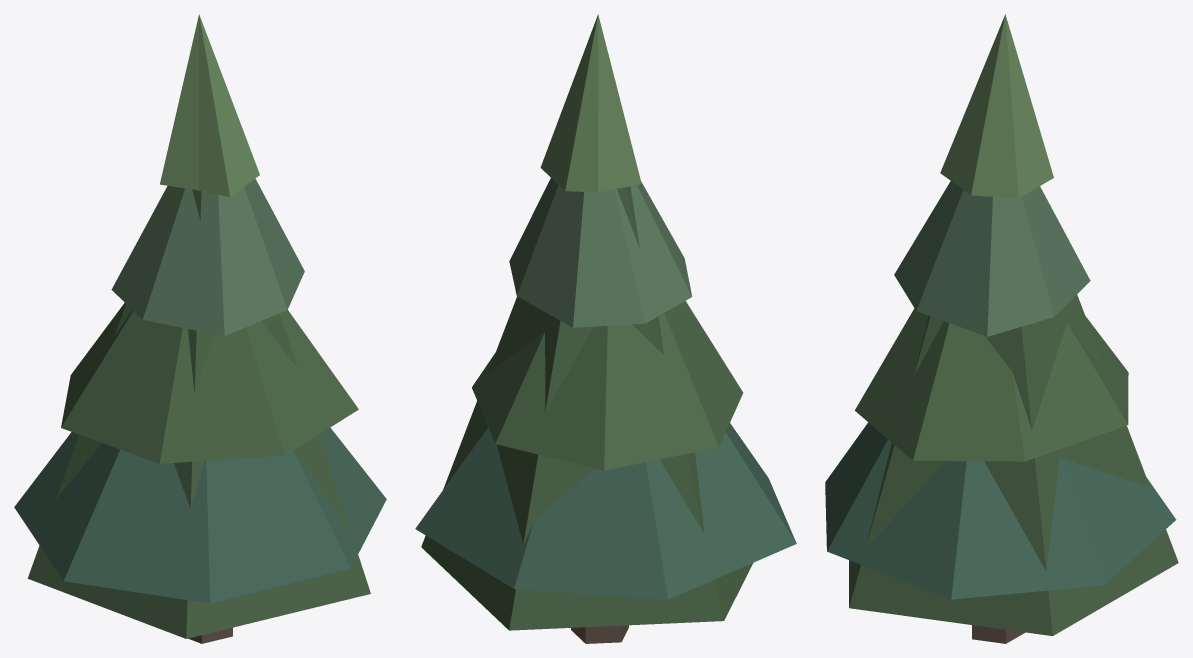
The model's file is tree_conifer_tall.glb.
3 renders of one model, left to right at view 1: azimuth 30°, elevation 25°; view 2: azimuth 150°, elevation 25°; view 3: azimuth 270°, elevation 25°, orthographic.
Parts seen in each view (by area): view 1: tier0, tier1, tier2, far, tier3; view 2: tier0, tier1, far, tier2, tier3, trunk; view 3: tier0, far, tier1, tier2, tier3, trunk.
Boxes of the visible parts, bbox=[...] form: tier0: bbox=[14, 427, 386, 603]; tier1: bbox=[61, 303, 358, 463]; tier2: bbox=[111, 178, 304, 336]; far: bbox=[27, 186, 370, 638]; tier3: bbox=[160, 14, 259, 197]; tier0: bbox=[415, 423, 796, 599]; tier1: bbox=[472, 301, 743, 470]; far: bbox=[421, 184, 752, 630]; tier2: bbox=[509, 178, 692, 327]; tier3: bbox=[540, 14, 641, 192]; trunk: bbox=[571, 625, 628, 643]; tier0: bbox=[825, 422, 1176, 599]; far: bbox=[849, 294, 1178, 636]; tier1: bbox=[855, 308, 1128, 461]; tier2: bbox=[894, 181, 1090, 336]; tier3: bbox=[940, 14, 1053, 198]; trunk: bbox=[972, 625, 1025, 643].
Bounding box in the file's own units: 1.25 × 2.24 × 1.16.
